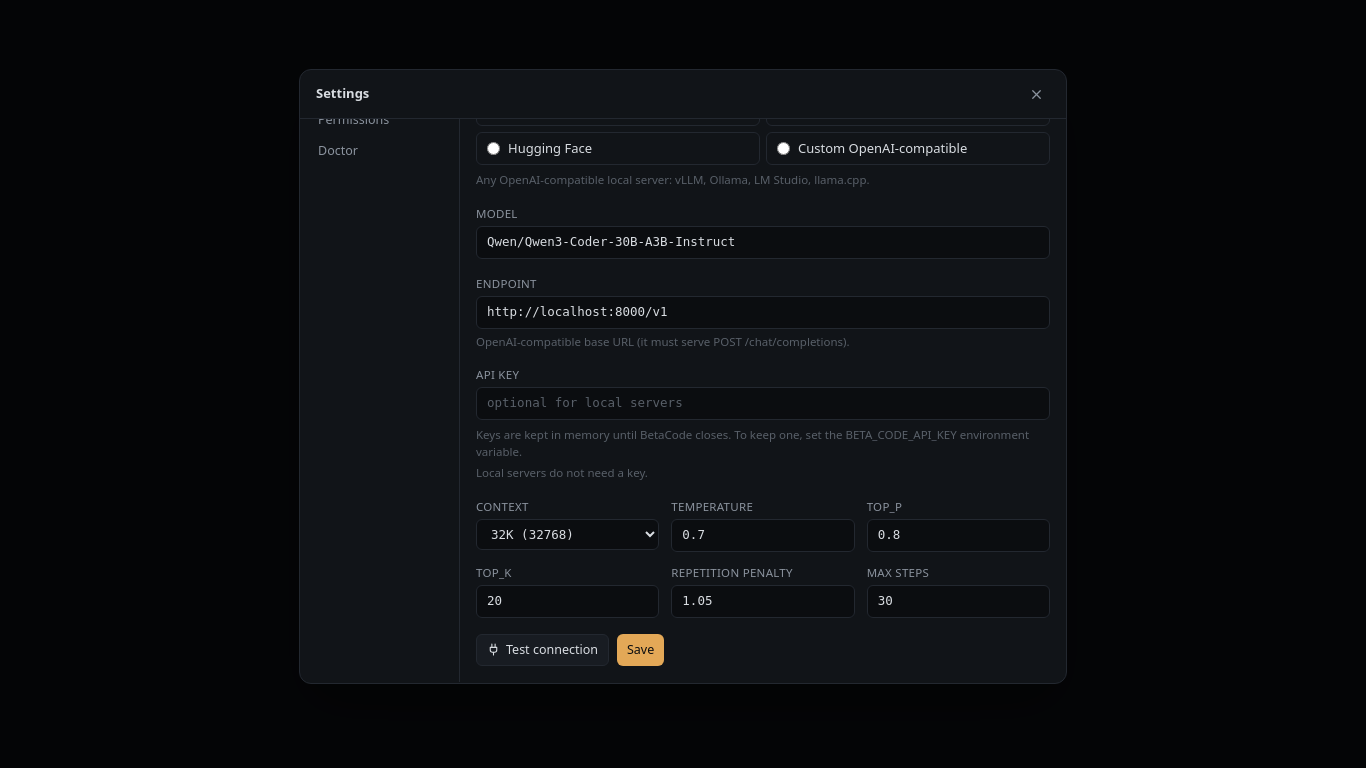
Test: SettingsDialog: model configuration › shows unreachable endpoints clearly
The image size is (1366, 768).
(page scrolled)
Click the button "Test connection" at (542, 650), box [476,634,609,666]
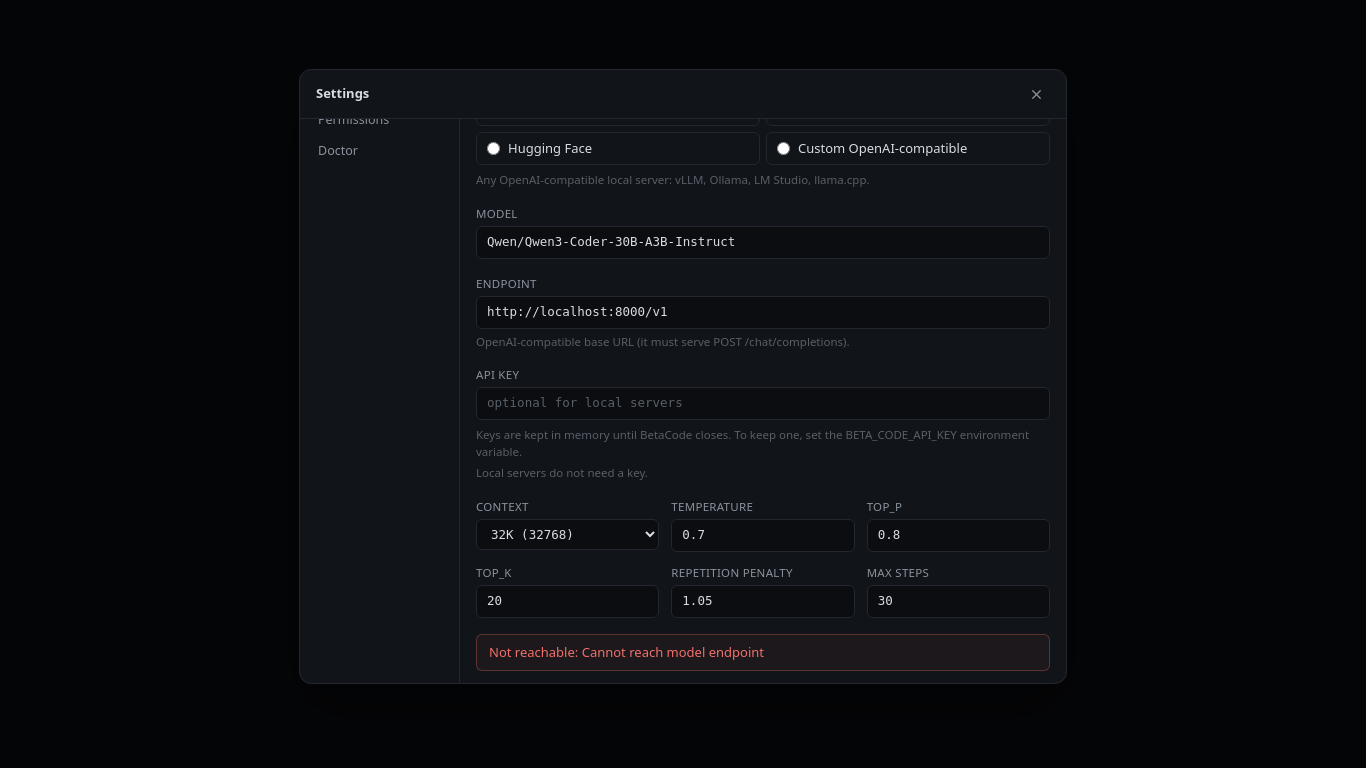
Result: the text "Not reachable: Cannot reach model endpoint" is shown at [476,634,1050,671]
